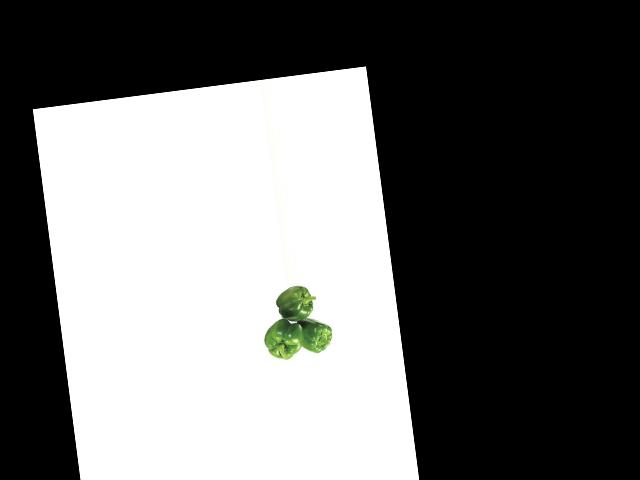bell_pepper: (258, 316, 307, 365)
